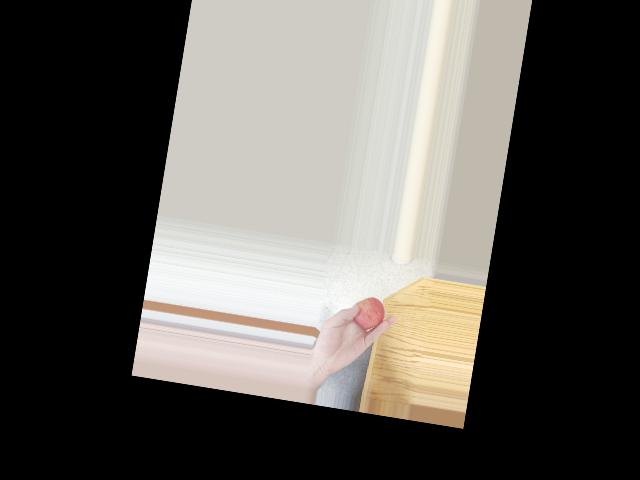apple: (347, 293, 386, 335)
